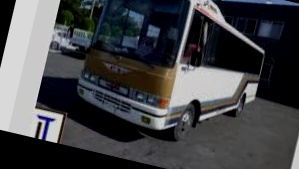bus: (71, 0, 276, 156)
